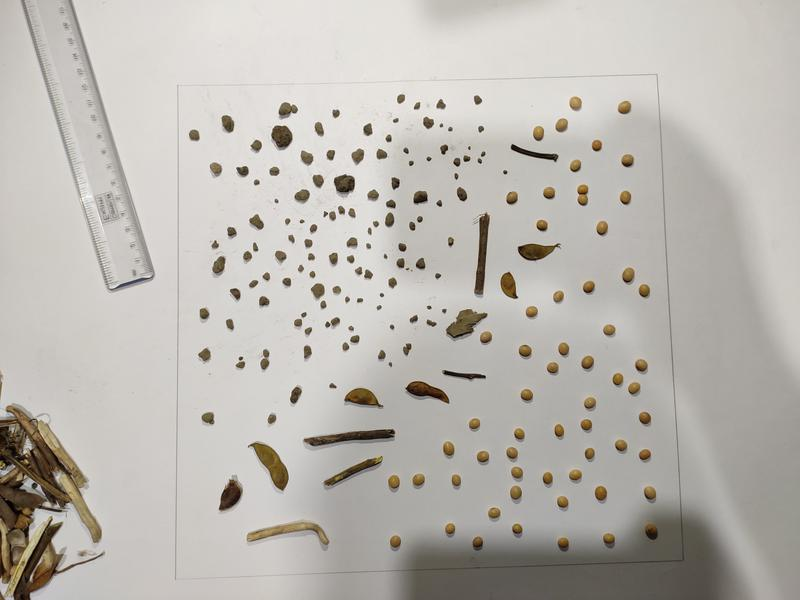Kadi: (244, 520, 332, 550), (244, 442, 294, 492), (318, 455, 386, 489), (300, 427, 396, 450), (474, 212, 492, 296), (444, 307, 489, 338), (402, 380, 451, 407), (508, 143, 560, 164), (214, 478, 243, 515), (514, 241, 565, 262), (344, 387, 386, 409), (440, 368, 490, 384), (497, 271, 521, 301)
Moti Mitti: (269, 125, 297, 148), (246, 211, 269, 233), (333, 175, 360, 192), (210, 256, 228, 275), (220, 114, 237, 134), (308, 173, 328, 190), (412, 187, 429, 207), (288, 387, 307, 404), (277, 102, 300, 116), (293, 187, 312, 203), (433, 98, 453, 113), (383, 210, 398, 228), (301, 343, 315, 361), (455, 183, 468, 202), (196, 347, 215, 360), (329, 315, 345, 330), (390, 176, 405, 191), (299, 151, 315, 165), (314, 121, 327, 138), (351, 149, 368, 162), (198, 307, 211, 324), (208, 161, 223, 175), (362, 122, 375, 138), (366, 189, 383, 201), (188, 129, 202, 143), (250, 140, 264, 154), (229, 287, 242, 302), (311, 284, 326, 297), (273, 250, 289, 262), (225, 318, 237, 334), (256, 346, 272, 358), (385, 196, 399, 209), (236, 165, 249, 178), (394, 94, 407, 107), (423, 116, 435, 130), (258, 295, 270, 309), (415, 256, 427, 270), (397, 243, 411, 255), (328, 253, 341, 265), (387, 277, 400, 289), (346, 237, 360, 248), (258, 359, 272, 370), (234, 360, 248, 371), (261, 272, 273, 284), (330, 108, 343, 119), (326, 149, 338, 160), (226, 226, 237, 238), (248, 279, 259, 291), (344, 254, 356, 265), (328, 380, 339, 392), (269, 167, 282, 177), (473, 93, 483, 106), (377, 148, 386, 162), (282, 277, 293, 288), (461, 153, 472, 164), (302, 238, 314, 248), (364, 268, 374, 280), (378, 349, 387, 362), (453, 157, 463, 168), (445, 237, 455, 248), (353, 266, 364, 276), (332, 286, 344, 295), (235, 353, 247, 362), (251, 242, 261, 252), (303, 326, 314, 335), (408, 221, 417, 232), (440, 143, 448, 155), (210, 240, 219, 250), (243, 251, 252, 261), (287, 234, 296, 244), (299, 310, 309, 319), (434, 271, 443, 281), (384, 135, 395, 143), (310, 223, 318, 234), (414, 102, 422, 112), (415, 216, 423, 226), (293, 319, 304, 326), (424, 156, 435, 163), (402, 145, 410, 154), (285, 217, 292, 226), (436, 198, 442, 208), (307, 253, 315, 260), (408, 159, 416, 166), (388, 362, 396, 369), (393, 119, 402, 125), (478, 124, 484, 133), (298, 265, 305, 272), (253, 179, 261, 185), (298, 219, 306, 224), (357, 298, 364, 303), (448, 127, 453, 131), (439, 123, 443, 126)
Soybean: (567, 94, 588, 114), (484, 506, 509, 522), (601, 530, 619, 550), (613, 100, 637, 115), (645, 523, 662, 544), (593, 221, 615, 237), (441, 521, 464, 536), (410, 472, 428, 491), (618, 151, 636, 170), (642, 485, 662, 502), (554, 341, 574, 358), (465, 416, 486, 432), (544, 362, 565, 378), (620, 266, 635, 288), (515, 344, 537, 359), (507, 485, 526, 502), (469, 534, 488, 551), (612, 438, 632, 454), (508, 522, 528, 538), (626, 380, 647, 395), (609, 372, 627, 389), (618, 188, 635, 206), (530, 125, 548, 142), (541, 185, 560, 201), (556, 532, 571, 552), (550, 290, 570, 305), (477, 330, 497, 345), (504, 443, 521, 460), (440, 441, 458, 457), (636, 448, 660, 460), (580, 356, 598, 372), (474, 450, 493, 465), (552, 422, 566, 442), (510, 466, 530, 480), (523, 305, 543, 319), (551, 119, 571, 133), (555, 495, 572, 511), (637, 411, 654, 427), (638, 283, 653, 301), (593, 486, 612, 500), (581, 281, 600, 295), (565, 469, 585, 482), (388, 473, 401, 493), (603, 322, 619, 338), (449, 472, 464, 489), (635, 357, 650, 374), (511, 427, 529, 441), (389, 533, 404, 549), (521, 387, 536, 402), (542, 470, 556, 486), (505, 190, 519, 205), (574, 193, 590, 206), (590, 140, 606, 153), (580, 418, 594, 432), (569, 159, 583, 173), (584, 397, 597, 412), (574, 184, 591, 194), (536, 218, 548, 232), (584, 448, 596, 461)
